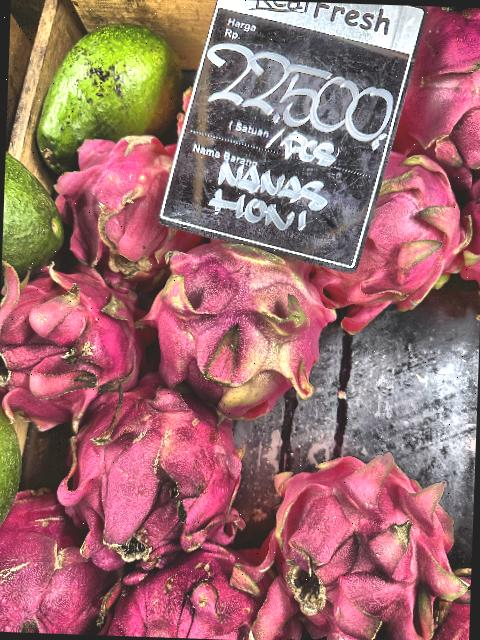buah-naga-belum-matang: (146, 230, 334, 416)
buah-naga-matang: (254, 444, 466, 640), (56, 374, 248, 566), (0, 256, 146, 413), (342, 146, 468, 322), (39, 130, 187, 271), (0, 478, 121, 635), (99, 543, 266, 640), (399, 5, 480, 172)
